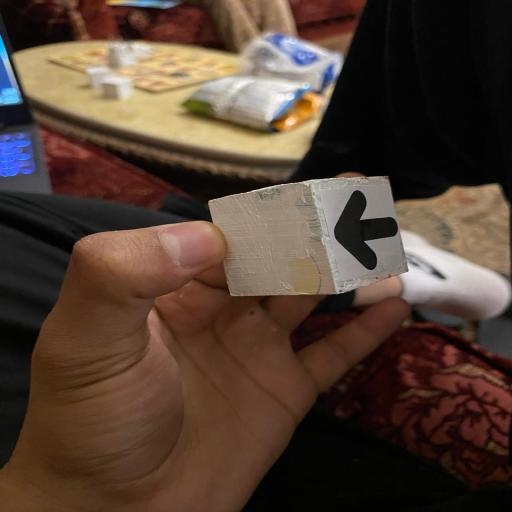Back: (202, 174, 426, 307)
